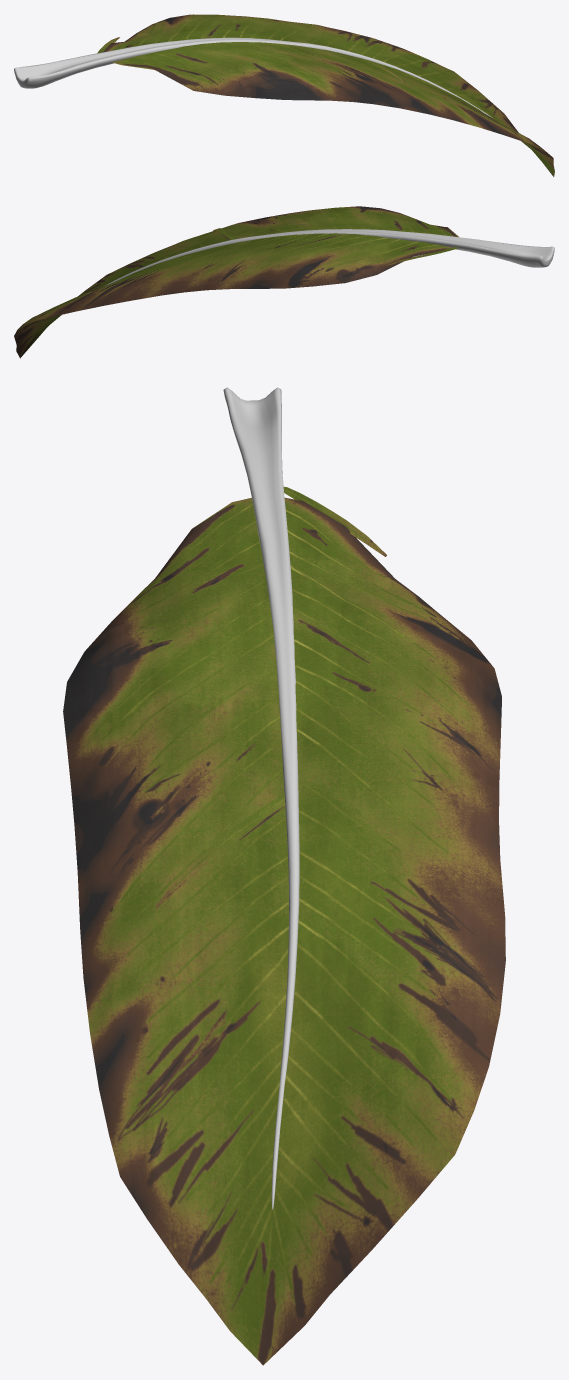
File: SM_Palm_Branch__Retopo_Cylinder_015.fbx
3 renders of one model, top to bottom at view 1: azimuth 30°, elevation 25°; view 2: azimuth 150°, elevation 25°; view 3: azimuth 270°, elevation 25°, orthographic. The views are drawn at different scales.
Parts seen in each view (by area): view 1: SM_Palm_Branch__Retopo_Cylinder_015; view 2: SM_Palm_Branch__Retopo_Cylinder_015; view 3: SM_Palm_Branch__Retopo_Cylinder_015.
Part boxes in pixels (x1,y1,x2,y2): SM_Palm_Branch__Retopo_Cylinder_015: (14,14,554,176); SM_Palm_Branch__Retopo_Cylinder_015: (14,206,554,358); SM_Palm_Branch__Retopo_Cylinder_015: (63,387,505,1365).
Size of the model in its own units: 378 by 138 by 160.
